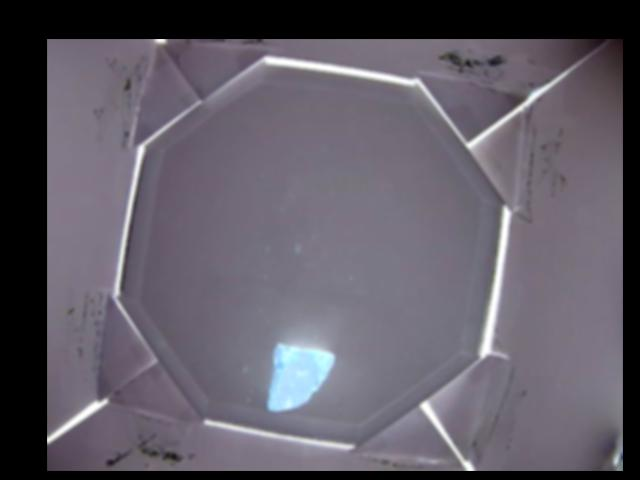Brisk: (266, 344, 335, 413)
